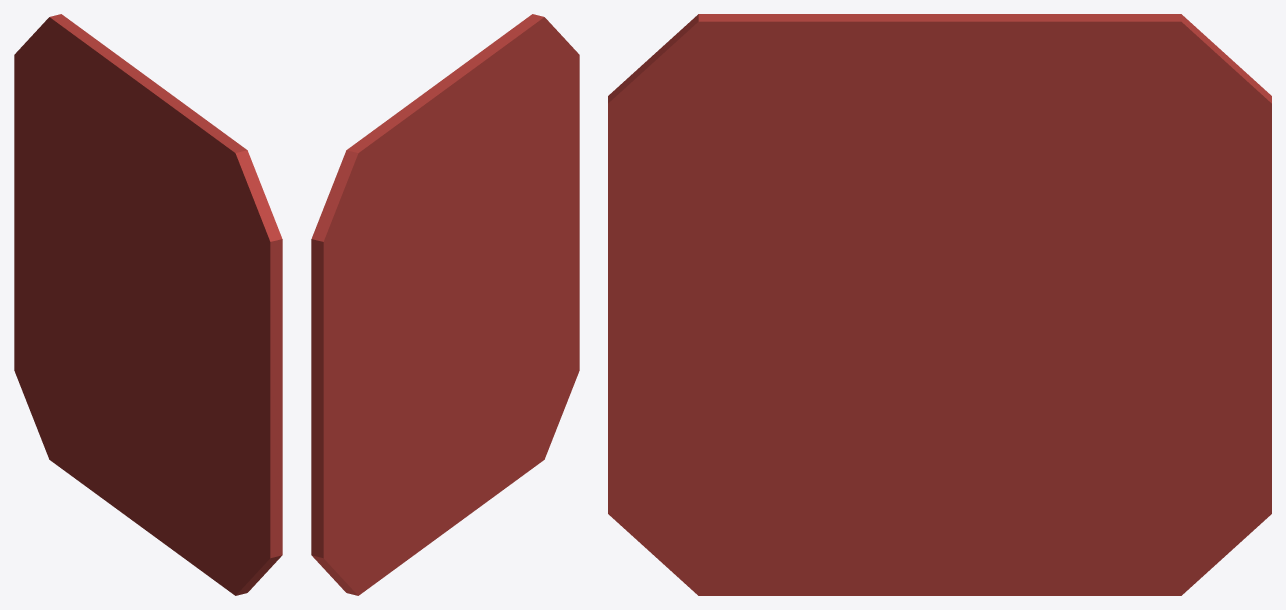
Rendered from plate_lod2.glb.
The picture shows the model from 3 angles, left to right: view 1: azimuth 30°, elevation 25°; view 2: azimuth 150°, elevation 25°; view 3: azimuth 270°, elevation 25°; orthographic projection. The views are drawn at different scales.
Parts seen in each view (by area): view 1: plate_lod2; view 2: plate_lod2; view 3: plate_lod2.
Boxes of the visible parts, box(x1,y1,x2,y2) form: plate_lod2: box(14, 14, 282, 595); plate_lod2: box(311, 14, 579, 595); plate_lod2: box(608, 14, 1271, 595).
Bounding box in the file's own units: 0.006 × 0.21 × 0.22.
